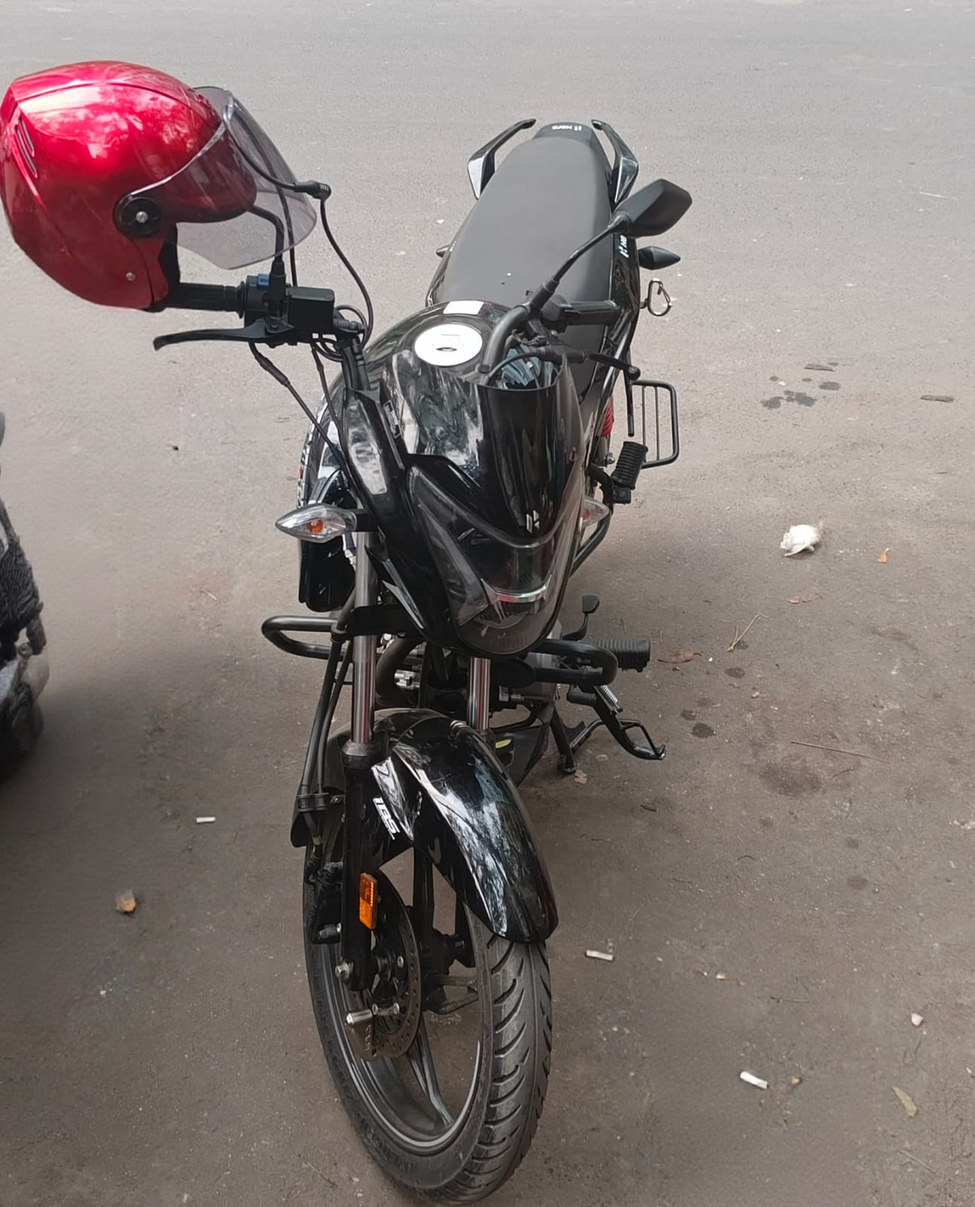Bikes: (0, 0, 842, 1207)
